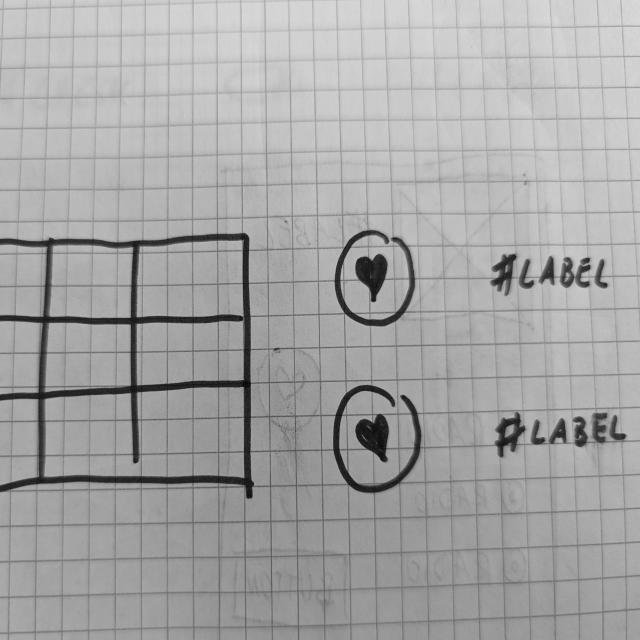icon-button: (332, 381, 428, 499), (332, 226, 422, 329)
label: (491, 410, 631, 460), (489, 249, 617, 301)
table: (1, 228, 257, 509)
